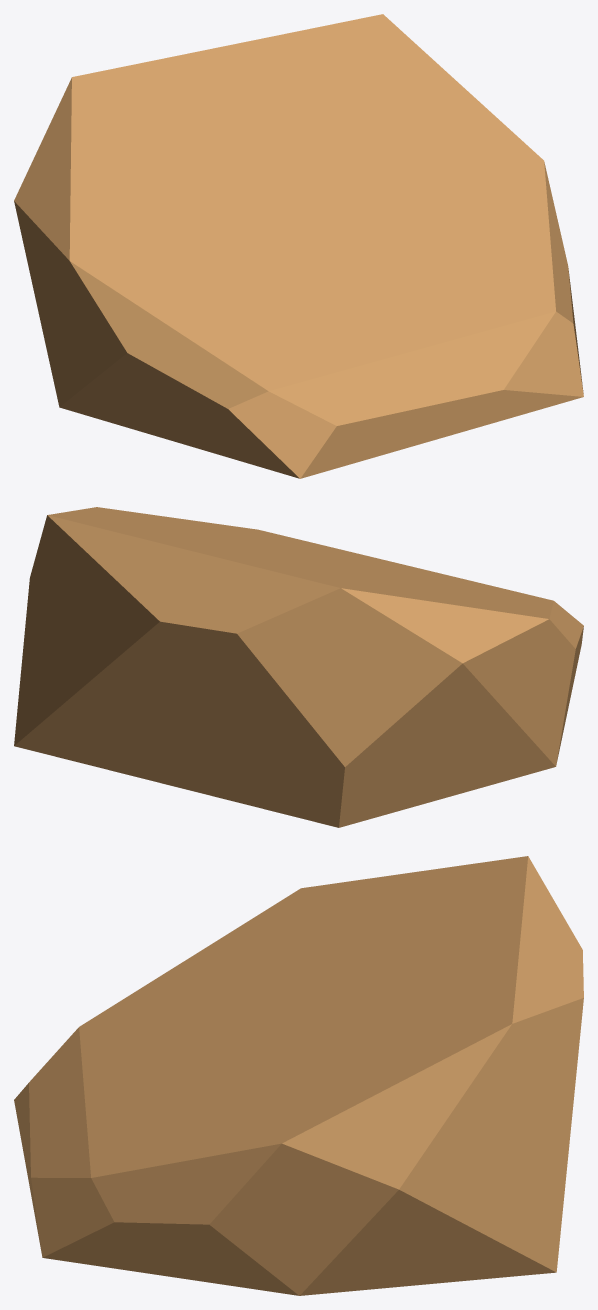
The model's file is decoration_stone_03.glb.
3 renders of one model, top to bottom at view 1: azimuth 30°, elevation 25°; view 2: azimuth 150°, elevation 25°; view 3: azimuth 270°, elevation 25°, orthographic. The views are drawn at different scales.
Parts seen in each view (by area): view 1: Plane.060; view 2: Plane.060; view 3: Plane.060.
Boxes of the visible parts, box(x1,y1,x2,y2) form: Plane.060: box(14, 14, 583, 478); Plane.060: box(14, 507, 583, 827); Plane.060: box(14, 856, 583, 1295).
Size of the model in its own units: 15.68 by 6.98 by 14.54.
Materials: 1 (1 with a texture image).
